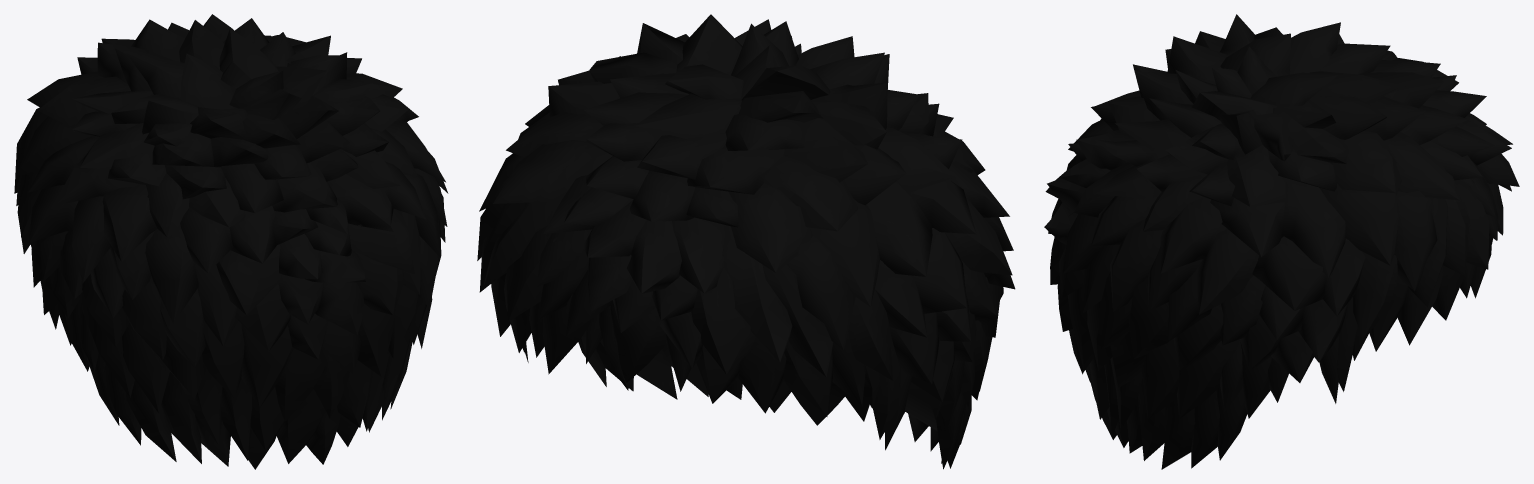
Rendered from 29-Black-Messy-Short-Fringe-V2-15563758601.glb.
The picture shows the model from 3 angles, left to right: view 1: azimuth 30°, elevation 25°; view 2: azimuth 150°, elevation 25°; view 3: azimuth 270°, elevation 25°; orthographic projection. The views are drawn at different scales.
Visible parts, largest first — view 1: 29-Black-Messy-Short-Fringe-V2-15563758601; view 2: 29-Black-Messy-Short-Fringe-V2-15563758601; view 3: 29-Black-Messy-Short-Fringe-V2-15563758601.
Part boxes in pixels (x1,y1,x2,y2): 29-Black-Messy-Short-Fringe-V2-15563758601: (14,14,448,469); 29-Black-Messy-Short-Fringe-V2-15563758601: (477,14,1015,469); 29-Black-Messy-Short-Fringe-V2-15563758601: (1044,14,1519,469).
Size of the model in its own units: 1.53 by 1.4 by 1.58.
1 material, 1 textured.
